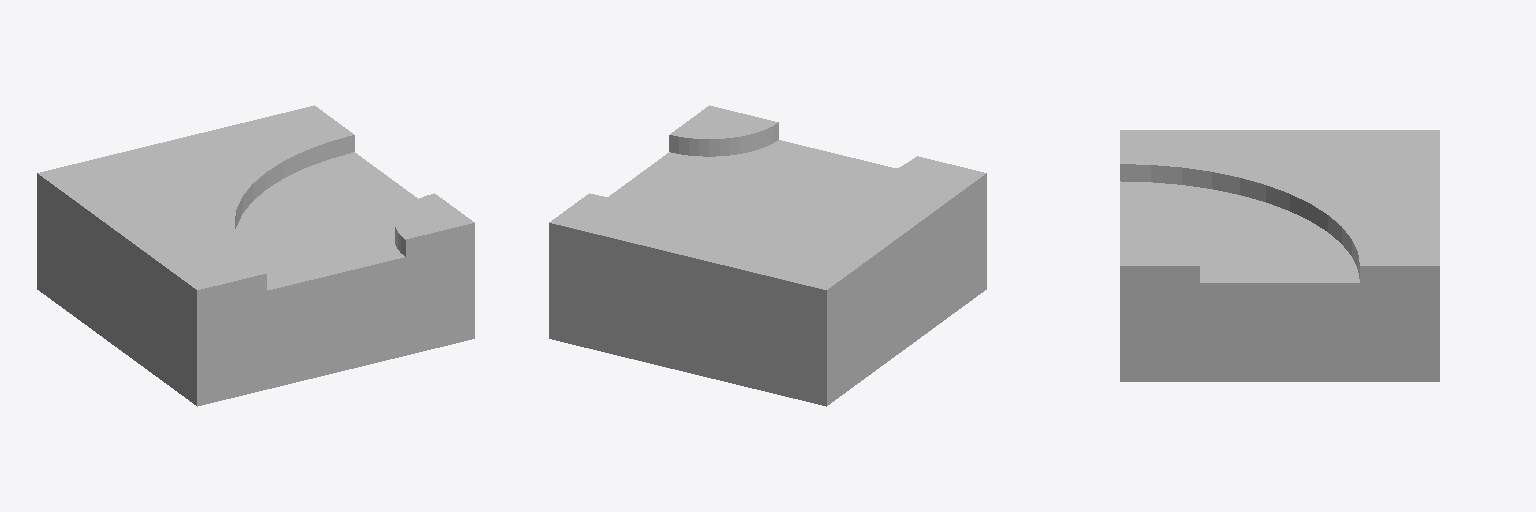
File: tile_084.obj
The picture shows the model from 3 angles: view 1: azimuth 30°, elevation 25°; view 2: azimuth 150°, elevation 25°; view 3: azimuth 270°, elevation 25°; orthographic projection.
Visible parts, largest first — view 1: tile_084; view 2: tile_084; view 3: tile_084.
Part boxes in pixels (bbox=[...]): tile_084: bbox=[37, 105, 474, 406]; tile_084: bbox=[549, 105, 986, 406]; tile_084: bbox=[1120, 130, 1439, 381].
Size of the model in its own units: 1 by 0.4 by 1.